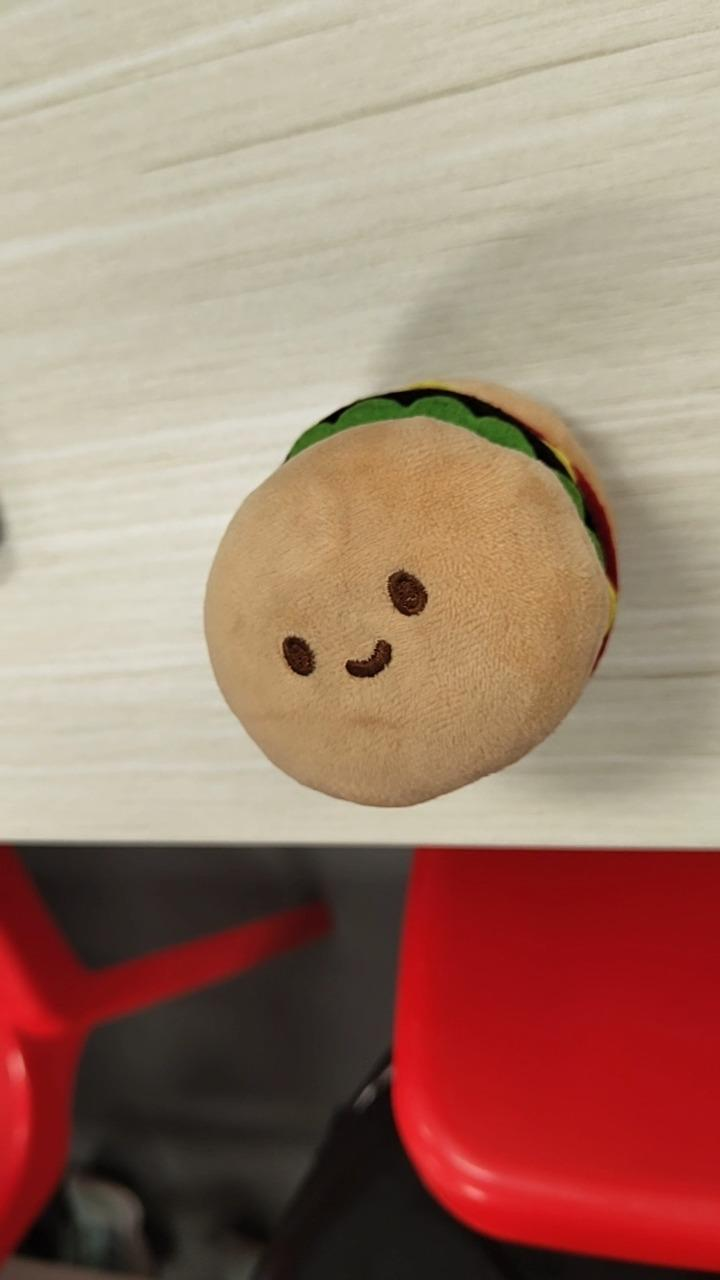hamburger: (201, 377, 621, 809)
